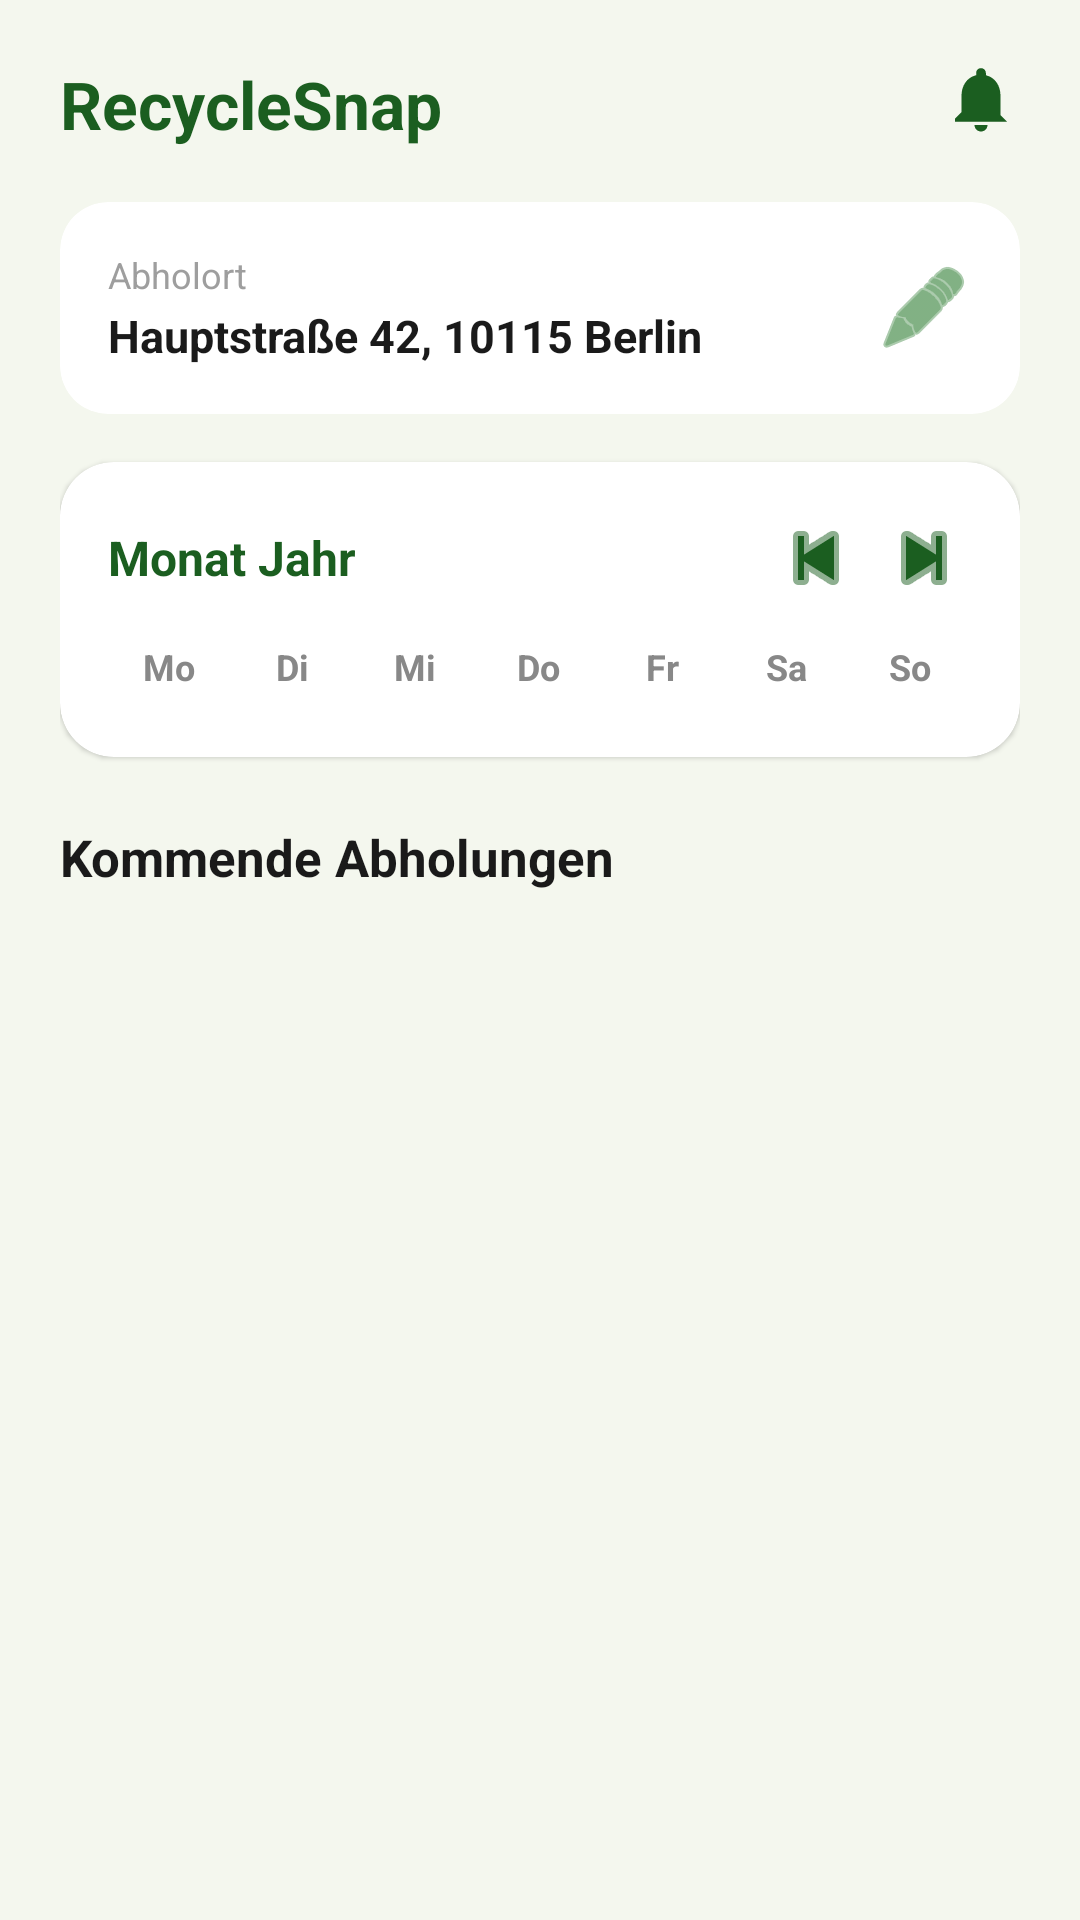

Icon click points for this 1080 × 1920 phone screenshot, format (x=x, y=y):
Abholort bearbeiten: (x=923, y=307)
Benachrichtigungen: (x=981, y=100)
Nächster Monat: (x=924, y=558)
Vorheriger Monat: (x=816, y=558)
